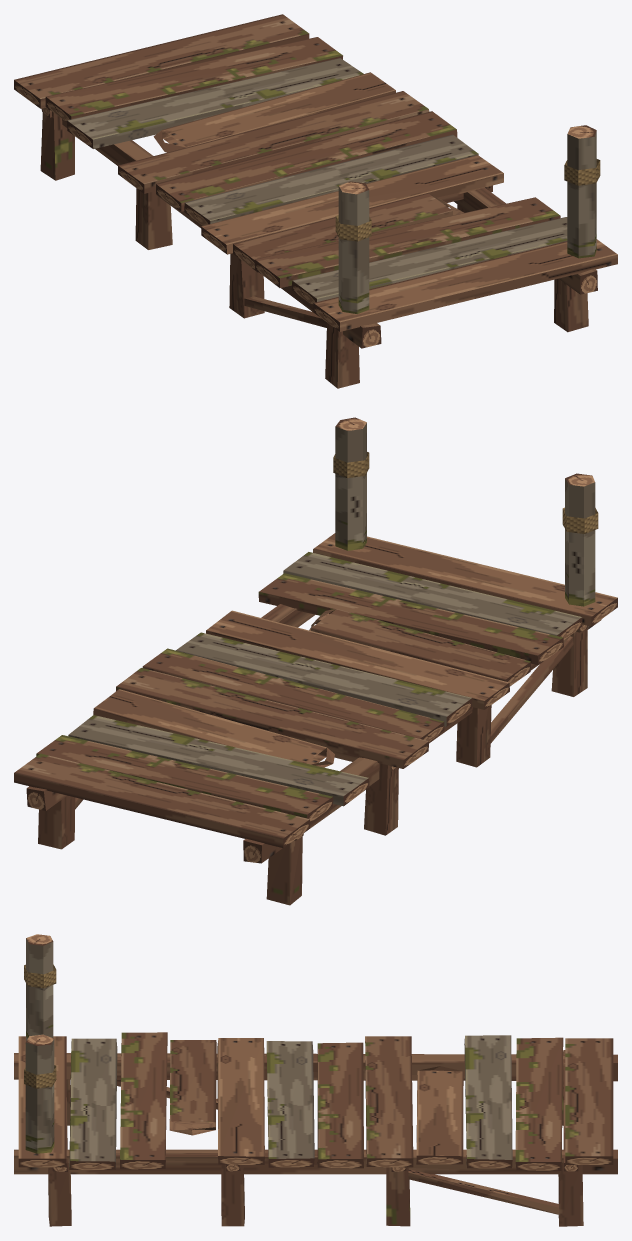
Rendered from SM_SP08_Pier.fbx.
The picture shows the model from 3 angles, top to bottom: view 1: azimuth 30°, elevation 25°; view 2: azimuth 150°, elevation 25°; view 3: azimuth 270°, elevation 25°; orthographic projection. The views are drawn at different scales.
Visible parts, largest first — view 1: SP08_Pier; view 2: SP08_Pier; view 3: SP08_Pier.
Boxes of the visible parts, left/top/right/bottom form: SP08_Pier: left=14, top=14, right=617, bottom=388; SP08_Pier: left=14, top=417, right=617, bottom=905; SP08_Pier: left=14, top=934, right=617, bottom=1226.
Size of the model in its own units: 2.51 by 1.68 by 5.08.
